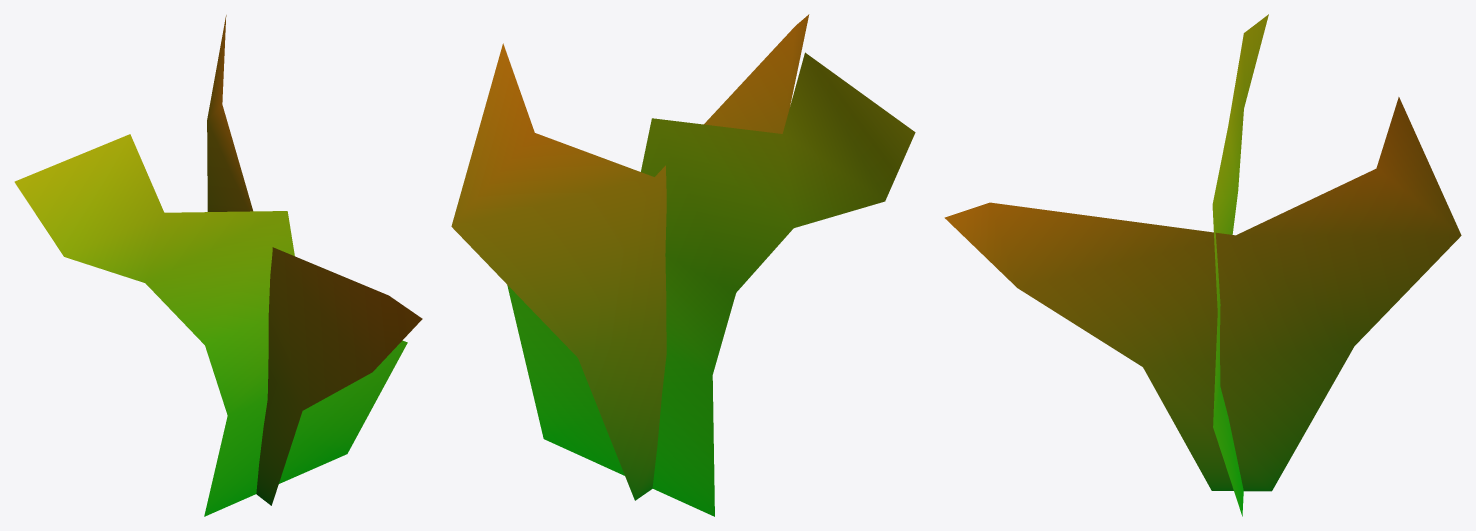
Rendered from Var11Hi28.fbx.
3 renders of one model, left to right at view 1: azimuth 30°, elevation 25°; view 2: azimuth 150°, elevation 25°; view 3: azimuth 270°, elevation 25°, orthographic. The views are drawn at different scales.
Parts seen in each view (by area): view 1: bend1; view 2: bend1; view 3: bend1.
Boxes of the visible parts, x1=… form: bend1: x1=14, y1=15, x2=422, y2=516; bend1: x1=451, y1=14, x2=915, y2=516; bend1: x1=944, y1=14, x2=1461, y2=516.
Bounding box in the file's own units: 1.35 × 1.49 × 1.63.
